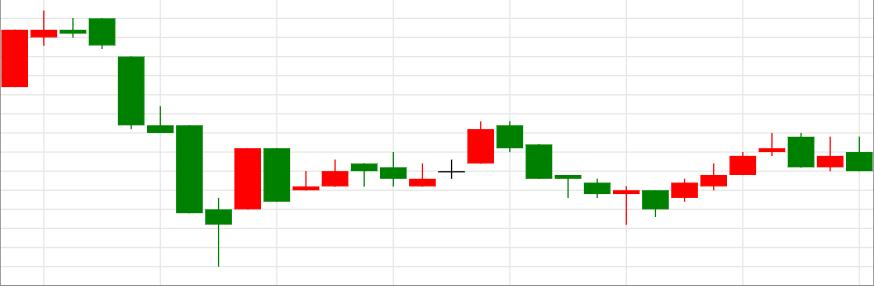morning_star_rise: (31, 9, 261, 266)
